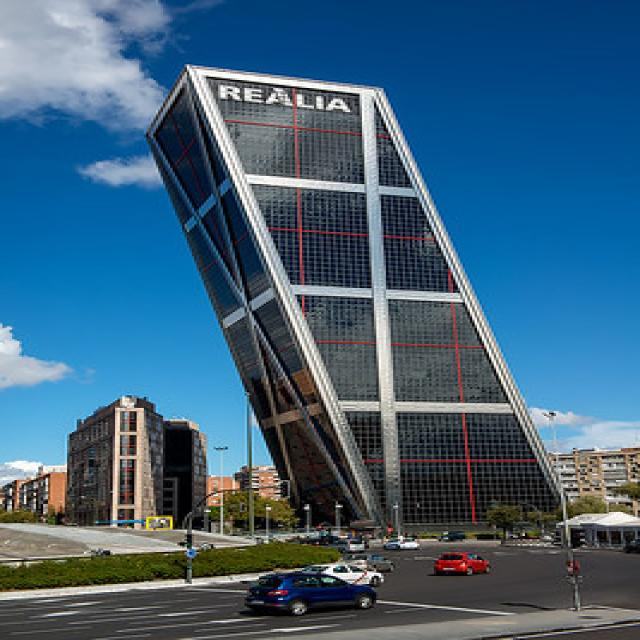building: (134, 59, 576, 565), (60, 393, 213, 532)
